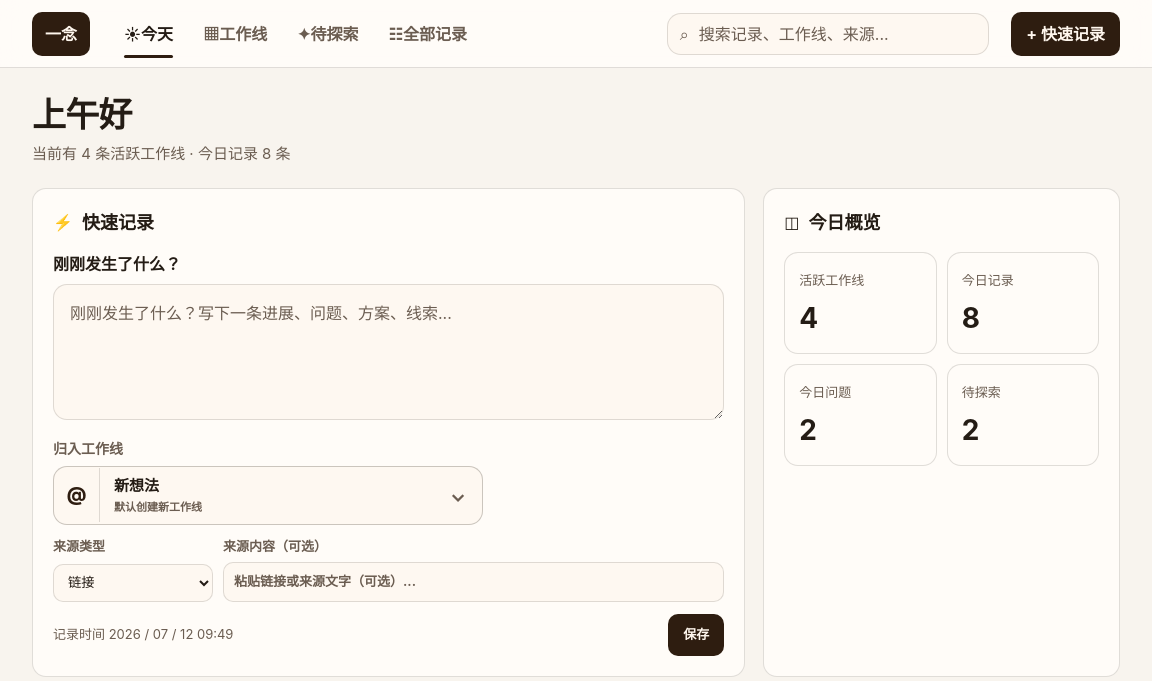
Test: Yinian six-page product shell › searches globally and opens a selected record result
The image size is (1152, 681).
Expected: the heading "上午好" is shown, [32, 94, 132, 135]
Type "相机坐标" into the field named "搜索记录、工作线、来源" at (837, 34), box [697, 20, 976, 46]
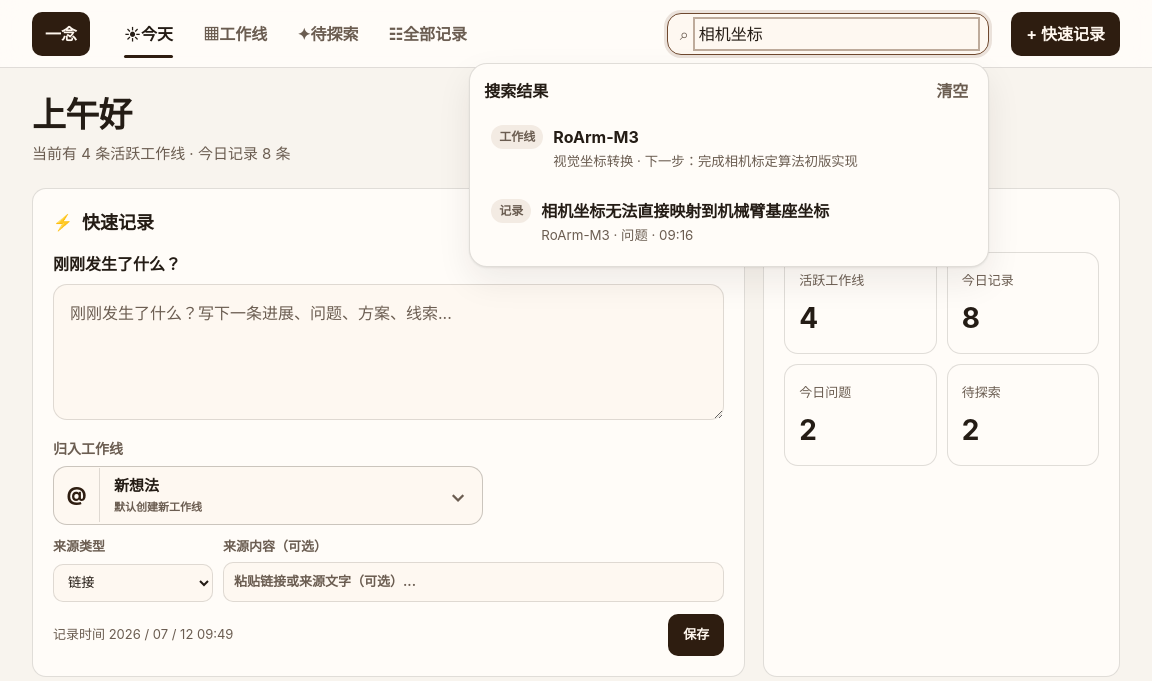
Result: the text "相机坐标无法直接映射到机械臂基座坐标" is shown at [541, 201, 829, 221]
Click the button "记录 相机坐标无法直接映射到机械臂基座坐标 RoArm-M3 · 问题 · 09:16" at (729, 222), box [480, 188, 978, 256]
(page scrolled)
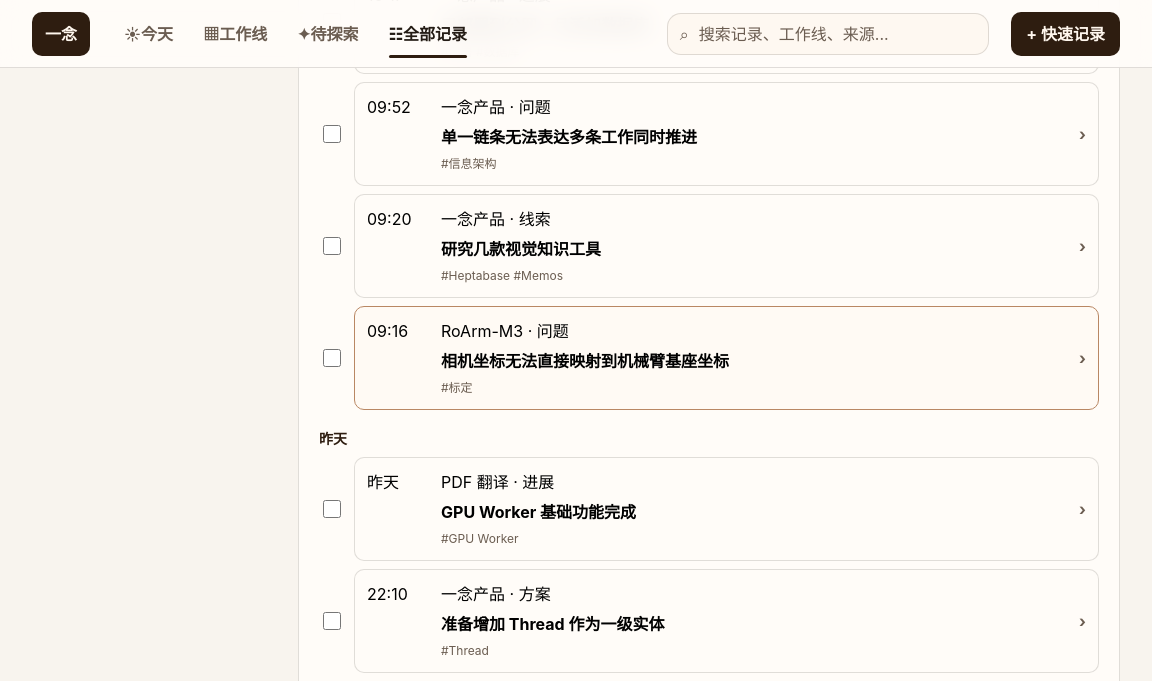
Result: the text "相机坐标无法直接映射到机械臂基座坐标" is shown at [441, 351, 729, 371]
Result: the text labelled "搜索结果" is gone
